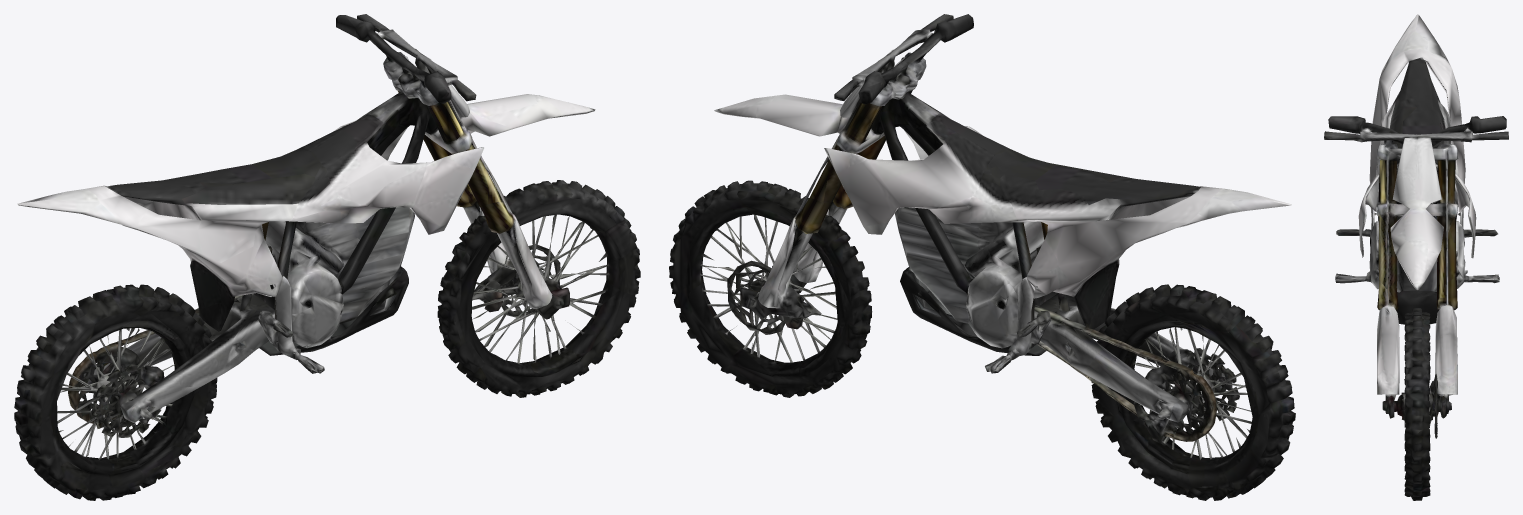
Rendered from dirtbike.glb.
3 views of the same model, side by side, from view 1: azimuth 30°, elevation 25°; view 2: azimuth 150°, elevation 25°; view 3: azimuth 270°, elevation 25° (orthographic). The views are drawn at different scales.
Parts seen in each view (by area): view 1: car; view 2: car; view 3: car.
Part boxes in pixels (x1=…): car: x1=14, y1=14, x2=640, y2=500; car: x1=669, y1=14, x2=1295, y2=500; car: x1=1324, y1=14, x2=1508, y2=500.
Size of the model in its own units: 0.9778 by 0.5688 by 0.3001.
1 material, 1 textured.
